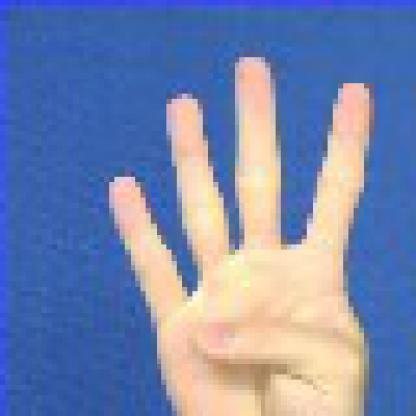four: (94, 36, 390, 411)
